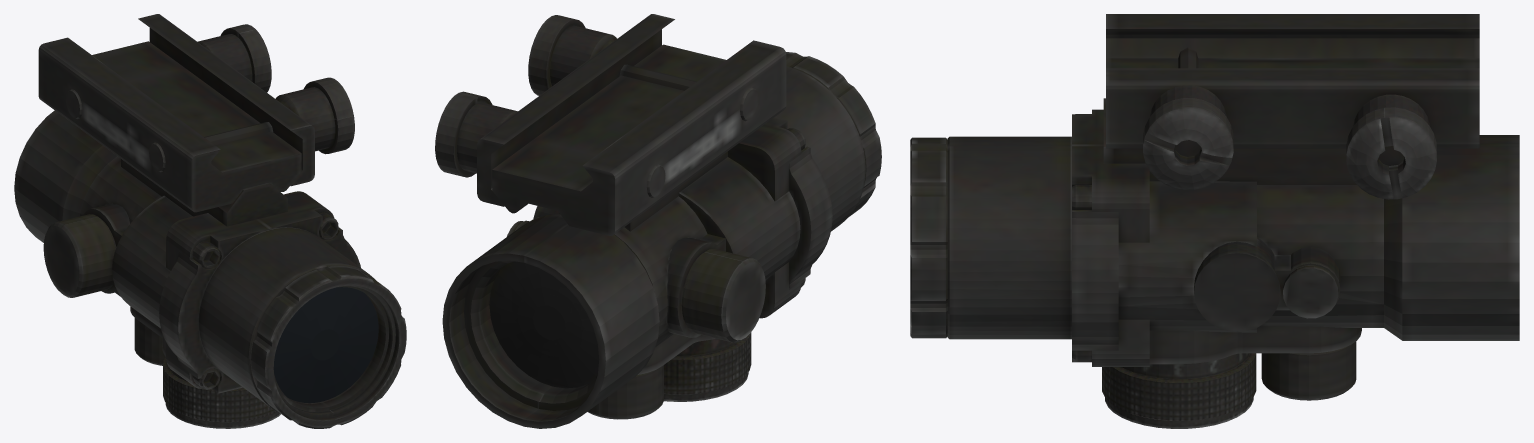
3 views of the same model, side by side, from view 1: azimuth 30°, elevation 25°; view 2: azimuth 150°, elevation 25°; view 3: azimuth 270°, elevation 25° (orthographic). The views are drawn at different scales.
Visible parts, largest first — view 1: TW_5d2dc3e548f035404a1a4798_PZ_Import; view 2: TW_5d2dc3e548f035404a1a4798_PZ_Import; view 3: TW_5d2dc3e548f035404a1a4798_PZ_Import.
Part boxes in pixels (bbox=[...]): TW_5d2dc3e548f035404a1a4798_PZ_Import: bbox=[14, 14, 406, 428]; TW_5d2dc3e548f035404a1a4798_PZ_Import: bbox=[435, 14, 881, 428]; TW_5d2dc3e548f035404a1a4798_PZ_Import: bbox=[910, 14, 1519, 428].
Bounding box in the file's own units: 0.0315 × 0.0587 × 0.0388.
Materials: 1 (1 with a texture image).
